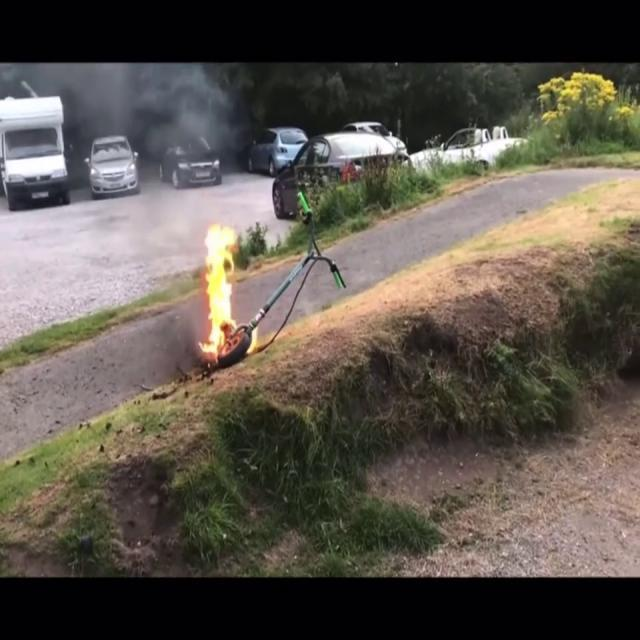Fire: (196, 222, 242, 356)
Smoke: (0, 65, 252, 218)
